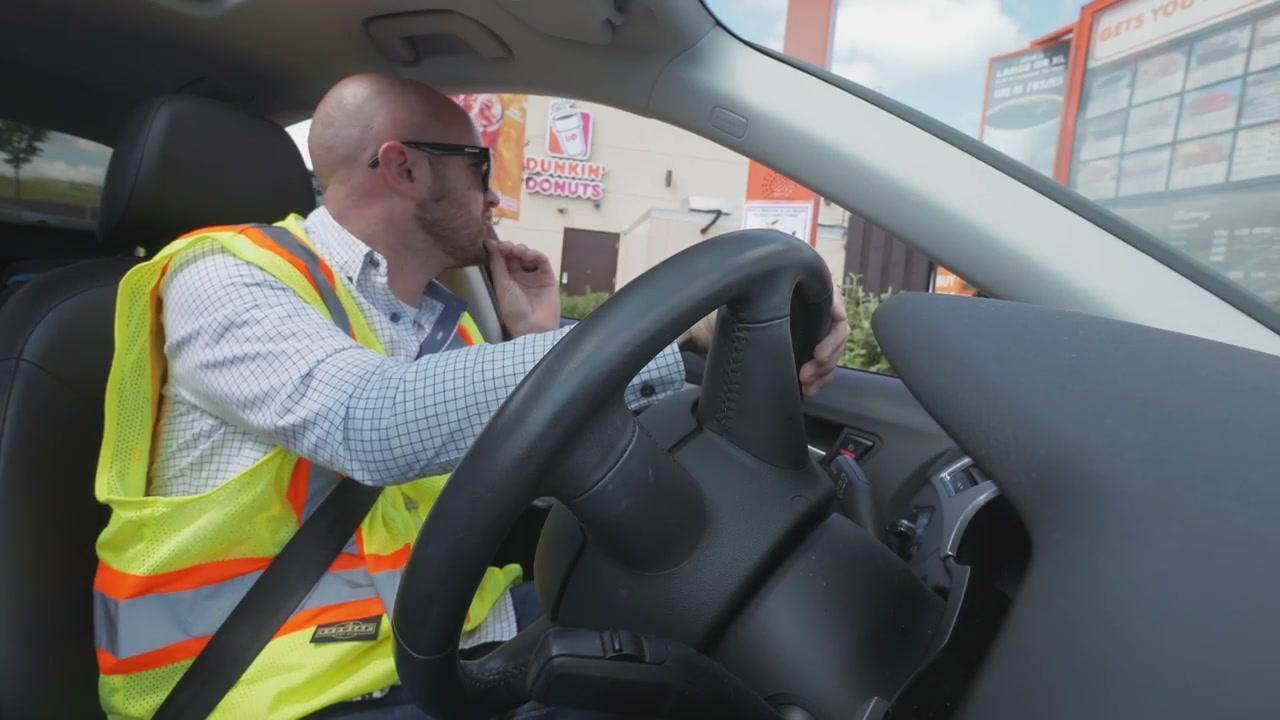vest: (90, 208, 523, 719)
